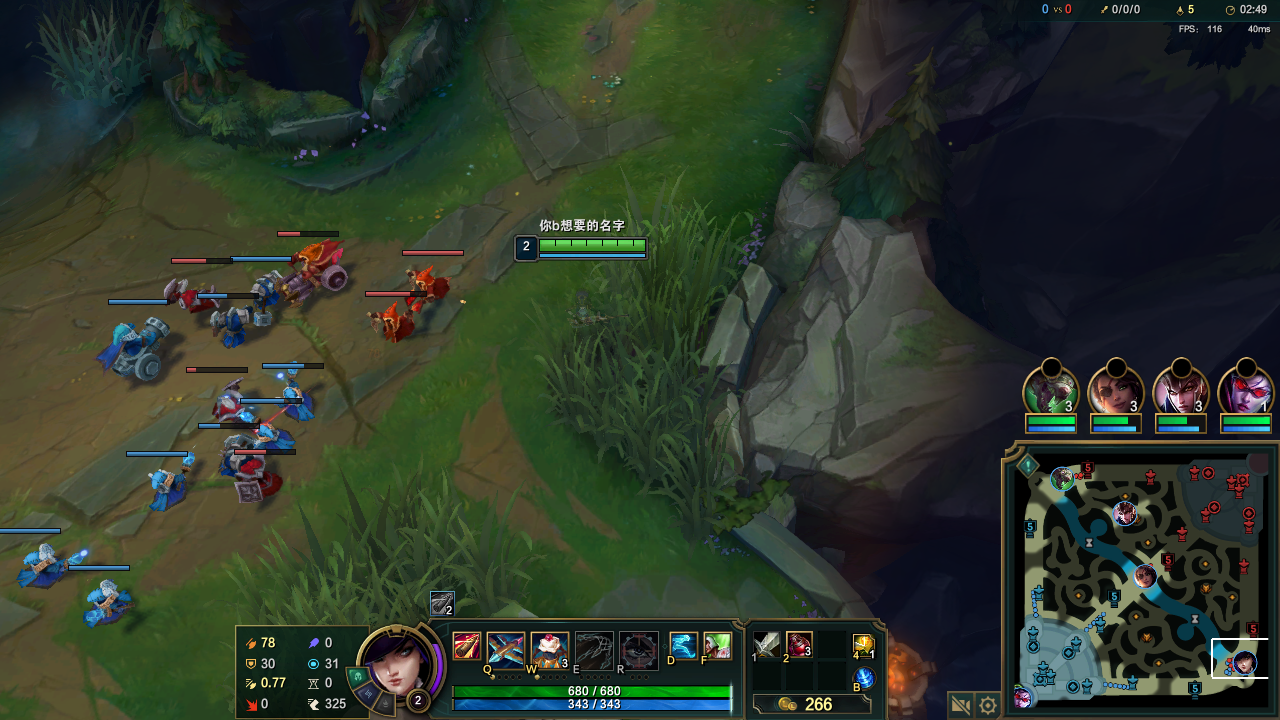DFXB: (283, 239, 352, 295), (401, 262, 457, 307), (370, 300, 411, 348), (164, 275, 215, 311), (208, 386, 244, 418), (246, 463, 278, 496)
WFXB: (90, 314, 177, 383), (146, 450, 200, 510), (21, 540, 87, 589), (83, 575, 142, 625), (209, 311, 270, 347), (247, 266, 282, 314), (251, 423, 298, 458), (278, 383, 317, 418), (214, 433, 245, 473)
Yita: (1184, 674, 1207, 702)
